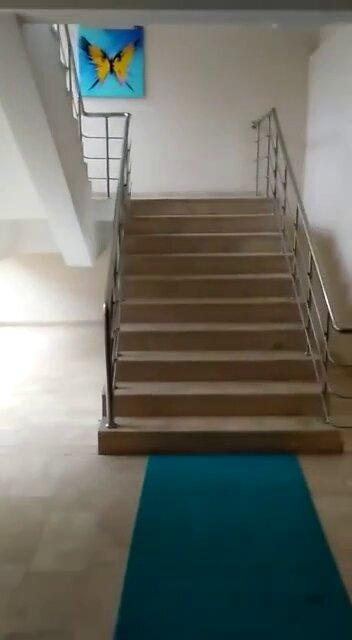Bench: (117, 142, 335, 435)
